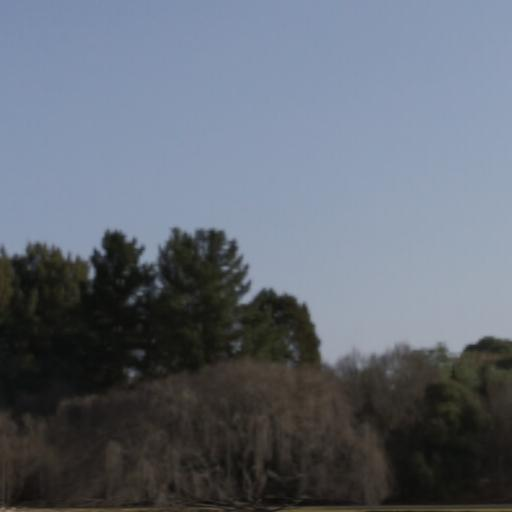nothing: (1, 0, 512, 509)
